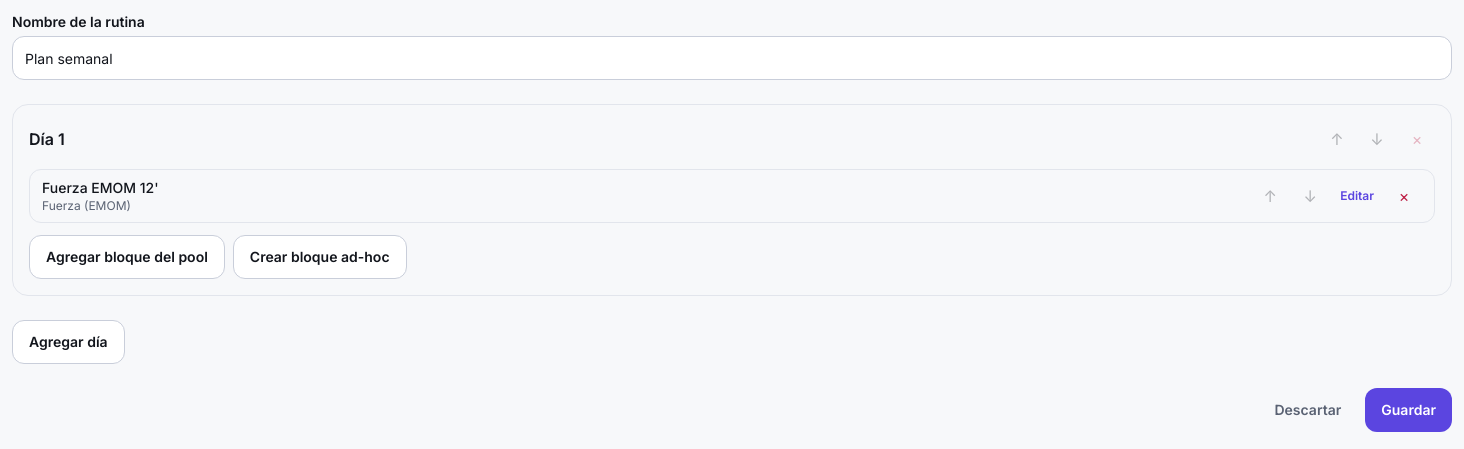
Test: RoutineEditor — rutina existente › quitar un bloque del día lo saca de la lista
This screenshot has width=1464, height=449.
Expected: the text "Fuerza EMOM 12'" is shown, [42,178,159,198]
Click the button named "quitar fuerza emom 12'" at (1404,196), box [1386,178,1422,214]
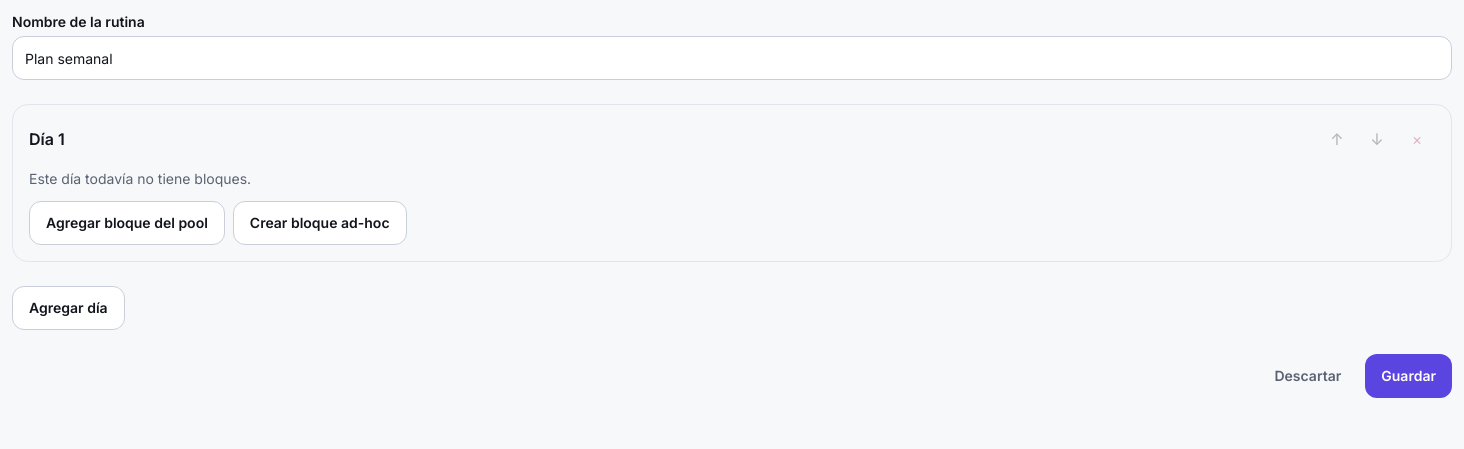
Now the text "Fuerza EMOM 12'" is gone
